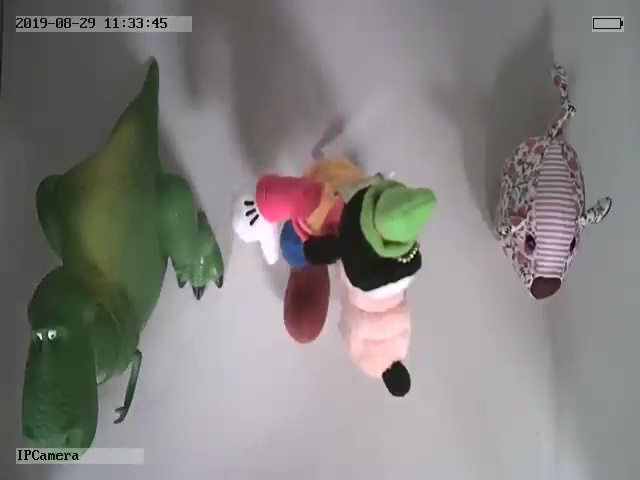goofy: (232, 152, 438, 398)
pig: (492, 66, 610, 302)
rex: (23, 57, 226, 448)
